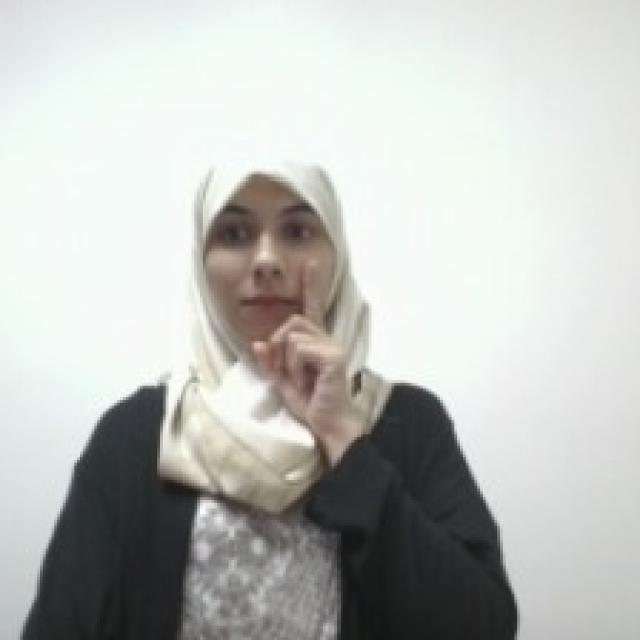mother: (249, 256, 352, 428)
